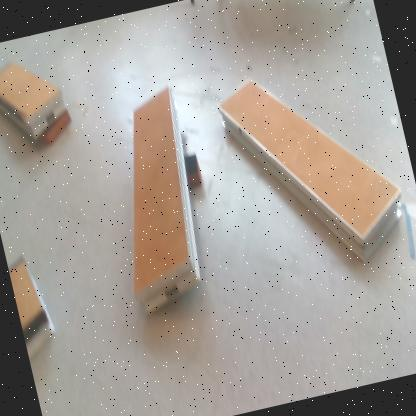Stairs: (219, 76, 405, 269), (133, 87, 204, 319), (1, 60, 71, 144), (10, 256, 60, 368)
